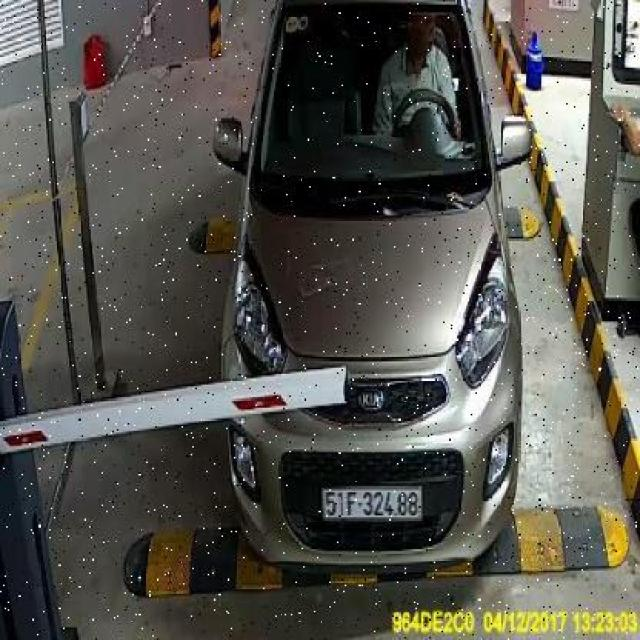number_plate: (319, 475, 426, 528)
